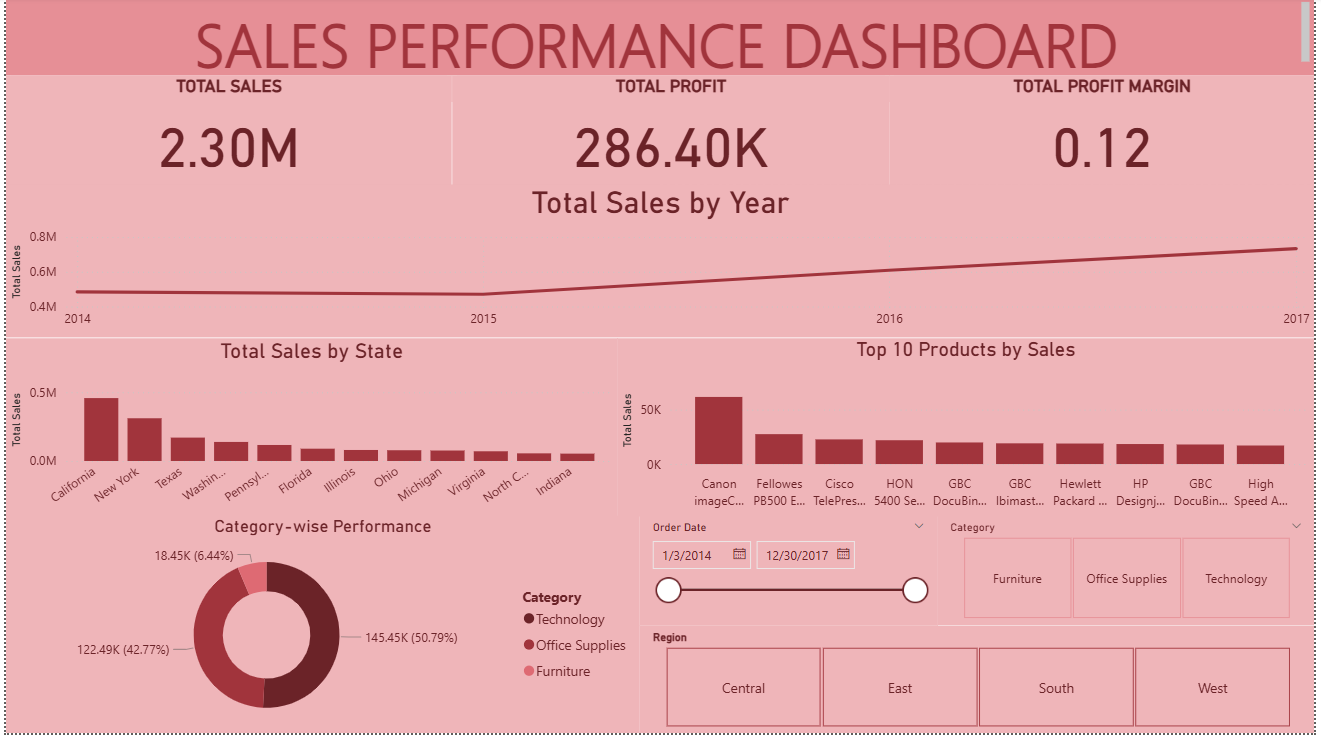

The page's visual inventory and layout, read from the dashboard file:
{"tool":"powerbi","page":{"name":"Page 1","canvas":[1280,720],"ordinal":0},"visuals":[{"type":"textbox","box":[0,0,1280.3,76.8],"z":0},{"type":"card","title":"TOTAL SALES","fields":{"Values":["Sample - Superstore.Total Sales"]},"box":[0,76.8,436.4,107],"z":1},{"type":"card","title":"TOTAL PROFIT","fields":{"Values":["Sample - Superstore.Total Profit"]},"box":[436.4,76.8,428.1,107],"z":2},{"type":"card","title":"TOTAL PROFIT MARGIN","fields":{"Values":["Sample - Superstore.Profit Margin"]},"box":[864.5,76.8,415.8,107],"z":3},{"type":"lineChart","fields":{"Category":["Sample - Superstore.Order Date.Variation.Date Hierarchy.Year","Sample - Superstore.Order Date.Variation.Date Hierarchy.Quarter","Sample - Superstore.Order Date.Variation.Date Hierarchy.Month","Sample - Superstore.Order Date.Variation.Date Hierarchy.Day"],"Y":["Sample - Superstore.Total Sales"]},"box":[0,183.9,1280.3,149.6],"z":4},{"type":"clusteredColumnChart","fields":{"Category":["Sample - Superstore.State"],"Y":["Sample - Superstore.Total Sales"]},"box":[0,333.4,598.3,174.3],"z":5},{"type":"clusteredColumnChart","title":"Top 10 Products by Sales","fields":{"Category":["Sample - Superstore.Product Name"],"Y":["Sample - Superstore.Total Sales"]},"box":[598.3,333.4,682,174.3],"z":6},{"type":"donutChart","title":"Category-wise Performance","fields":{"Category":["Sample - Superstore.Category"],"Y":["Sample - Superstore.Total Profit"]},"box":[0,507.7,620.2,212.7],"z":7},{"type":"slicer","fields":{"Values":["Sample - Superstore.Order Date"]},"box":[620.2,507.7,290.9,107],"z":8},{"type":"slicer","fields":{"Values":["Sample - Superstore.Category"]},"box":[911.2,507.7,369.1,107],"z":9},{"type":"slicer","fields":{"Values":["Sample - Superstore.Region"]},"box":[620.2,614.8,660,105.7],"z":10}]}

Visuals, with their boxes in screenshot pixels (x1, y1, x2, y2), scaled from the page's 1280x720 canvas onto the 1321x736 screenshot:
textbox: select_region(0, 0, 1320, 79)
"TOTAL SALES" card: select_region(0, 79, 450, 188)
"TOTAL PROFIT" card: select_region(450, 79, 892, 188)
"TOTAL PROFIT MARGIN" card: select_region(892, 79, 1320, 188)
lineChart - Sample - Superstore.Order Date.Variation.Date Hierarchy.Year x Sample - Superstore.Order Date.Variation.Date Hierarchy.Quarter: select_region(0, 188, 1320, 341)
clusteredColumnChart - Sample - Superstore.State x Sample - Superstore.Total Sales: select_region(0, 341, 617, 519)
"Top 10 Products by Sales" clusteredColumnChart: select_region(617, 341, 1320, 519)
"Category-wise Performance" donutChart: select_region(0, 519, 640, 735)
slicer - Sample - Superstore.Order Date: select_region(640, 519, 940, 628)
slicer - Sample - Superstore.Category: select_region(940, 519, 1320, 628)
slicer - Sample - Superstore.Region: select_region(640, 628, 1320, 735)
